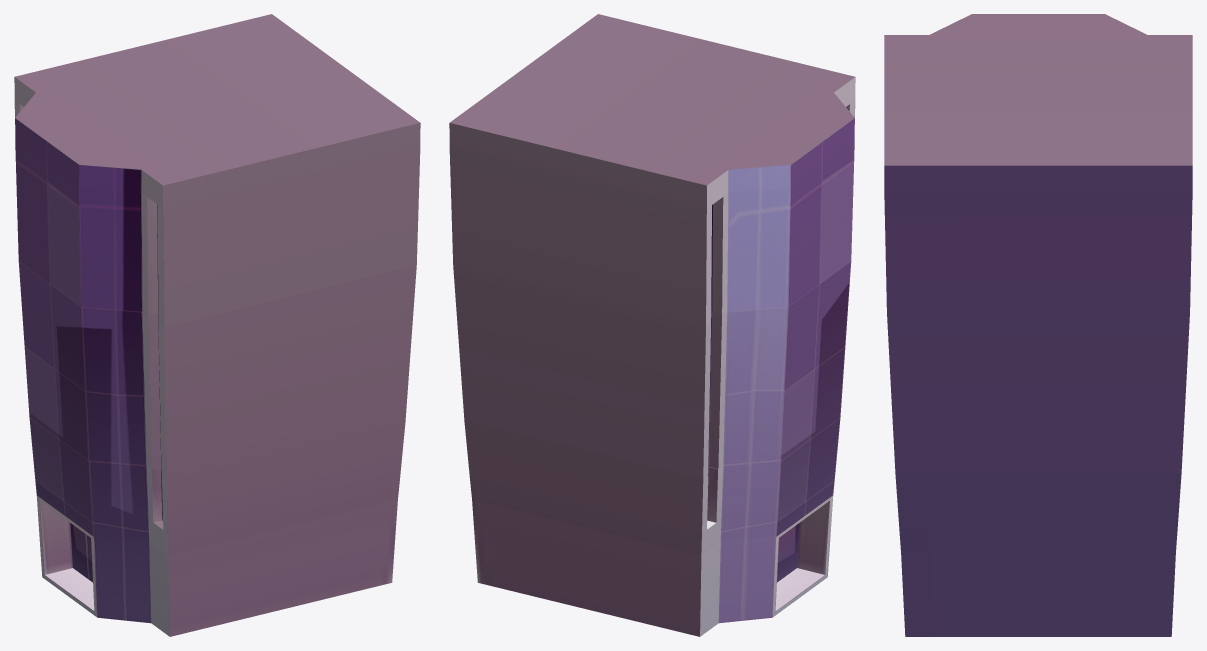
File: city_mid_a.glb
The picture shows the model from 3 angles, left to right: view 1: azimuth 30°, elevation 25°; view 2: azimuth 150°, elevation 25°; view 3: azimuth 270°, elevation 25°; orthographic projection. The views are drawn at different scales.
Parts seen in each view (by area): view 1: P00; view 2: P00; view 3: P00.
Boxes of the visible parts, x1,y1,x2,y2 form: P00: [14, 14, 420, 636]; P00: [449, 14, 855, 636]; P00: [884, 14, 1192, 636].
Size of the model in its own units: 12.66 by 18.73 by 10.9.
1 material, 1 textured.
